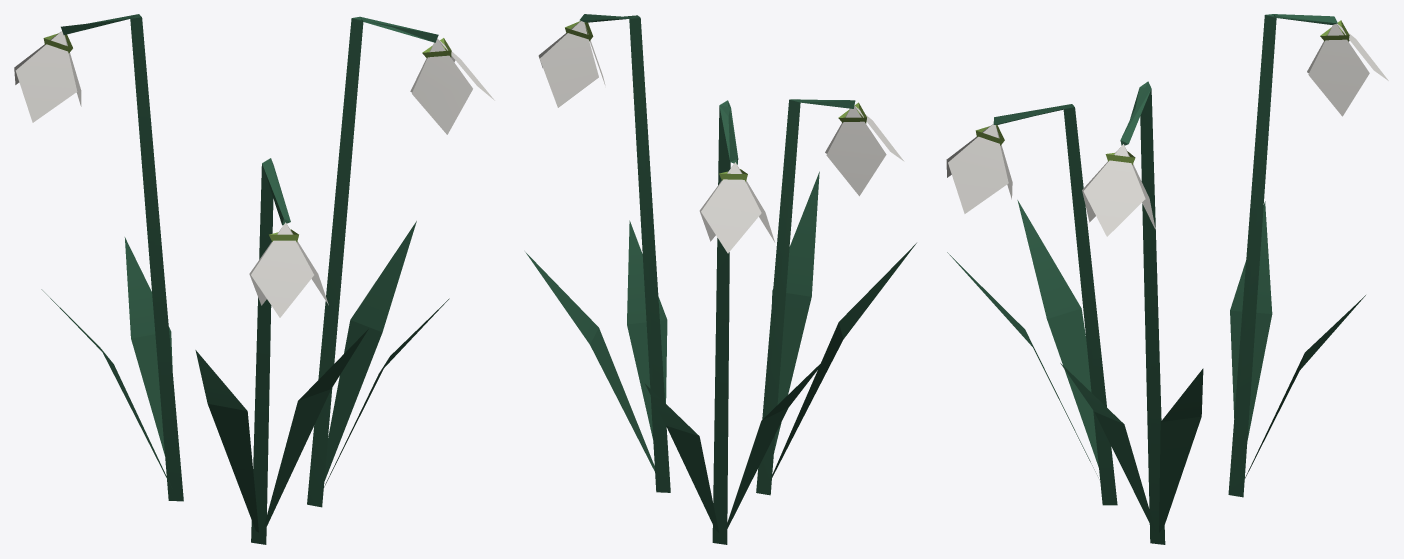
Rendered from snowdrop.glb.
The picture shows the model from 3 angles, left to right: view 1: azimuth 30°, elevation 25°; view 2: azimuth 150°, elevation 25°; view 3: azimuth 270°, elevation 25°; orthographic projection. The views are drawn at different scales.
Parts seen in each view (by area): view 1: snowdrop; view 2: snowdrop; view 3: snowdrop.
Boxes of the visible parts, <box> form: snowdrop: <box>14,14,494,544</box>; snowdrop: <box>525,14,916,544</box>; snowdrop: <box>946,14,1388,544</box>.
Size of the model in its own units: 0.12 by 0.1461 by 0.1232.
